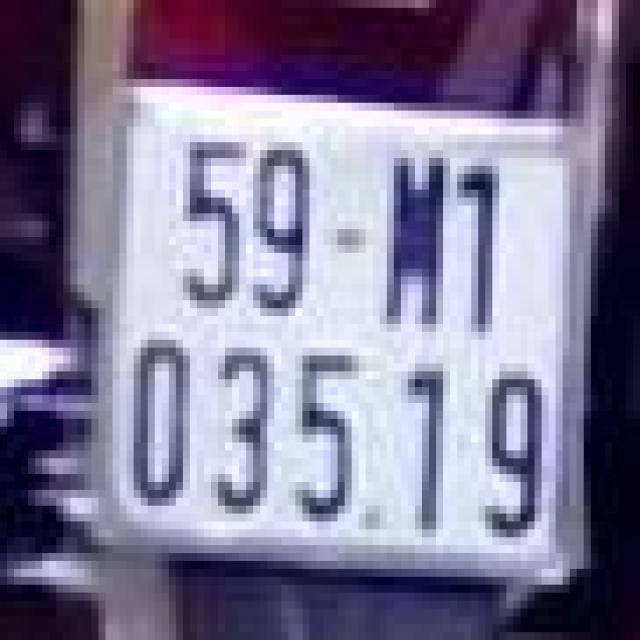0: (109, 316, 193, 522)
1: (394, 336, 471, 533), (450, 150, 514, 348)
3: (204, 332, 274, 529)
5: (281, 324, 359, 537), (165, 126, 243, 316)
9: (482, 340, 559, 537), (246, 126, 317, 324)
M: (373, 138, 457, 352)
